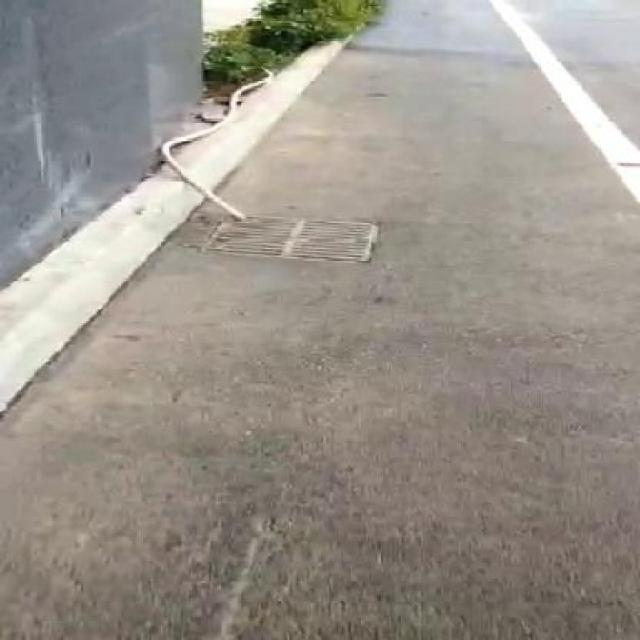Manhole: (196, 208, 390, 270)
Pothole: (365, 88, 392, 100)
